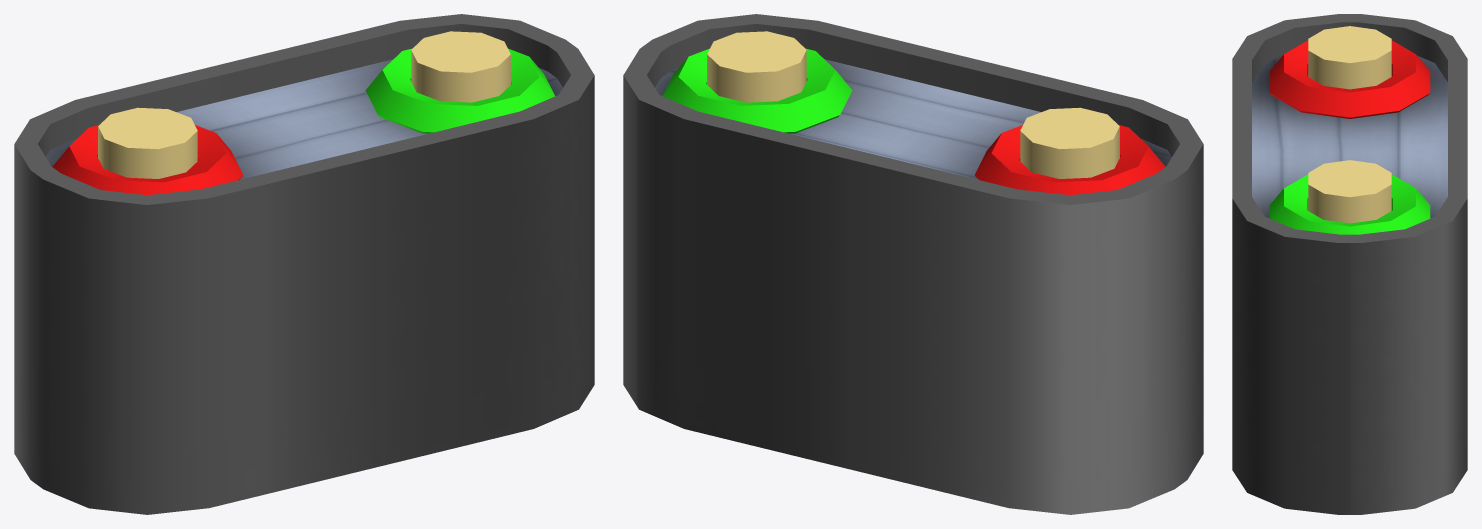
File: static.fbx
The picture shows the model from 3 angles, left to right: view 1: azimuth 30°, elevation 25°; view 2: azimuth 150°, elevation 25°; view 3: azimuth 270°, elevation 25°; orthographic projection. The views are drawn at different scales.
Parts seen in each view (by area): view 1: Sweep, Plane, Torus, Cylinder, Cylinder_2, Torus_2; view 2: Sweep, Plane, Torus, Cylinder, Cylinder_2, Torus_2; view 3: Sweep, Plane, Torus_2, Cylinder, Cylinder_2, Torus.
Boxes of the visible parts, <box> form: Sweep: <box>14,14,594,514</box>; Plane: <box>46,59,562,179</box>; Torus: <box>365,48,554,133</box>; Cylinder: <box>411,31,510,102</box>; Cylinder_2: <box>98,107,197,178</box>; Torus_2: <box>52,125,243,195</box>; Sweep: <box>623,14,1203,514</box>; Plane: <box>655,59,1171,179</box>; Torus: <box>663,48,852,133</box>; Cylinder: <box>707,31,806,102</box>; Cylinder_2: <box>1020,107,1119,178</box>; Torus_2: <box>974,125,1165,195</box>; Sweep: <box>1232,14,1467,514</box>; Plane: <box>1252,56,1447,218</box>; Torus_2: <box>1269,40,1430,118</box>; Cylinder: <box>1308,160,1391,223</box>; Cylinder_2: <box>1308,26,1391,89</box>; Torus: <box>1269,174,1430,234</box>.
Bounding box in the file's own units: 88.43 × 51.98 × 38.43.
Materials: 6 (6 with a texture image).
